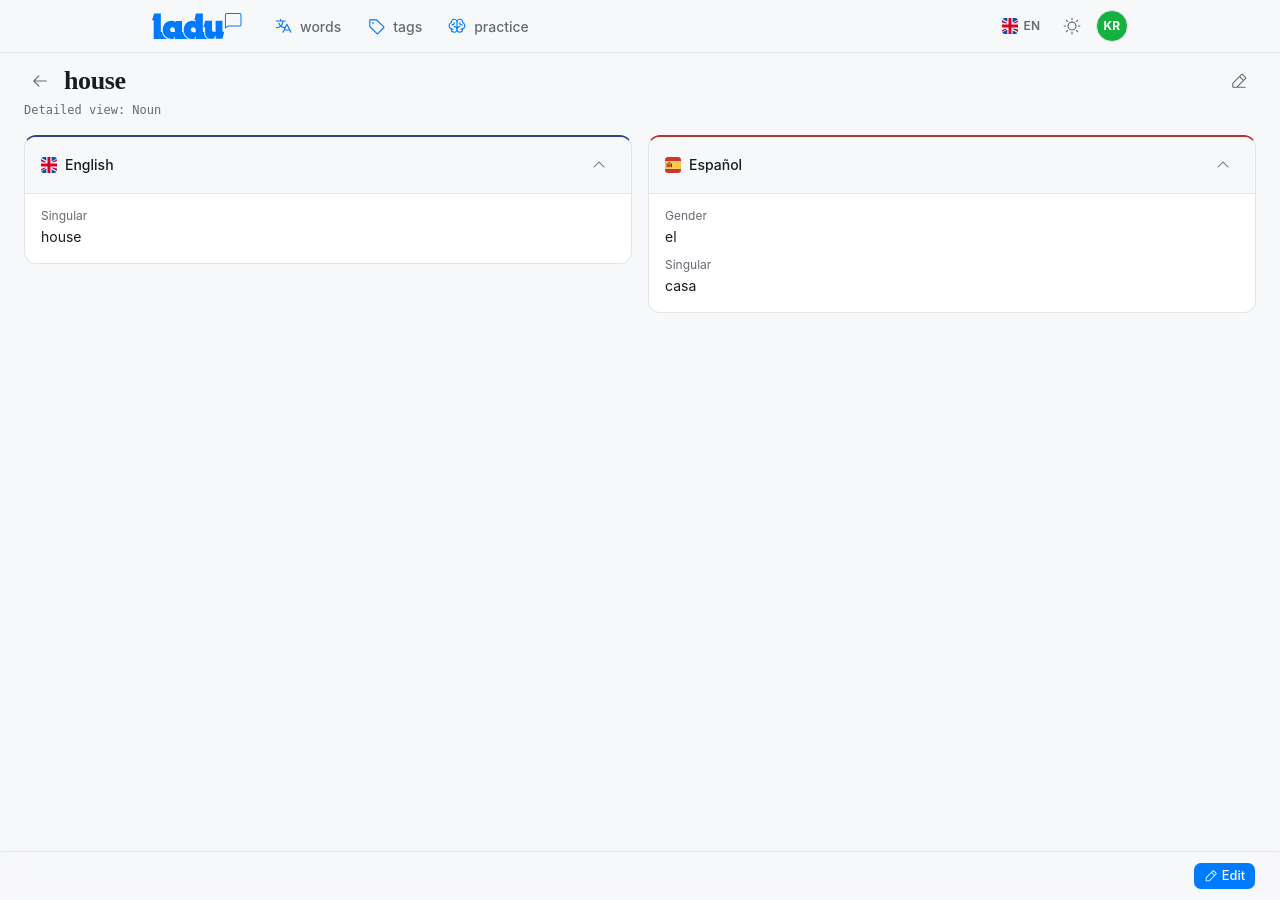
WordPage — view › phone: view mode shows only the icons of what the word has; Edit shows all three
Expected: the element with test id "trigger-clue" is shown, [1230,72,1248,90]
Click the button "Edit": (1224, 876) [1193,862,1256,890]
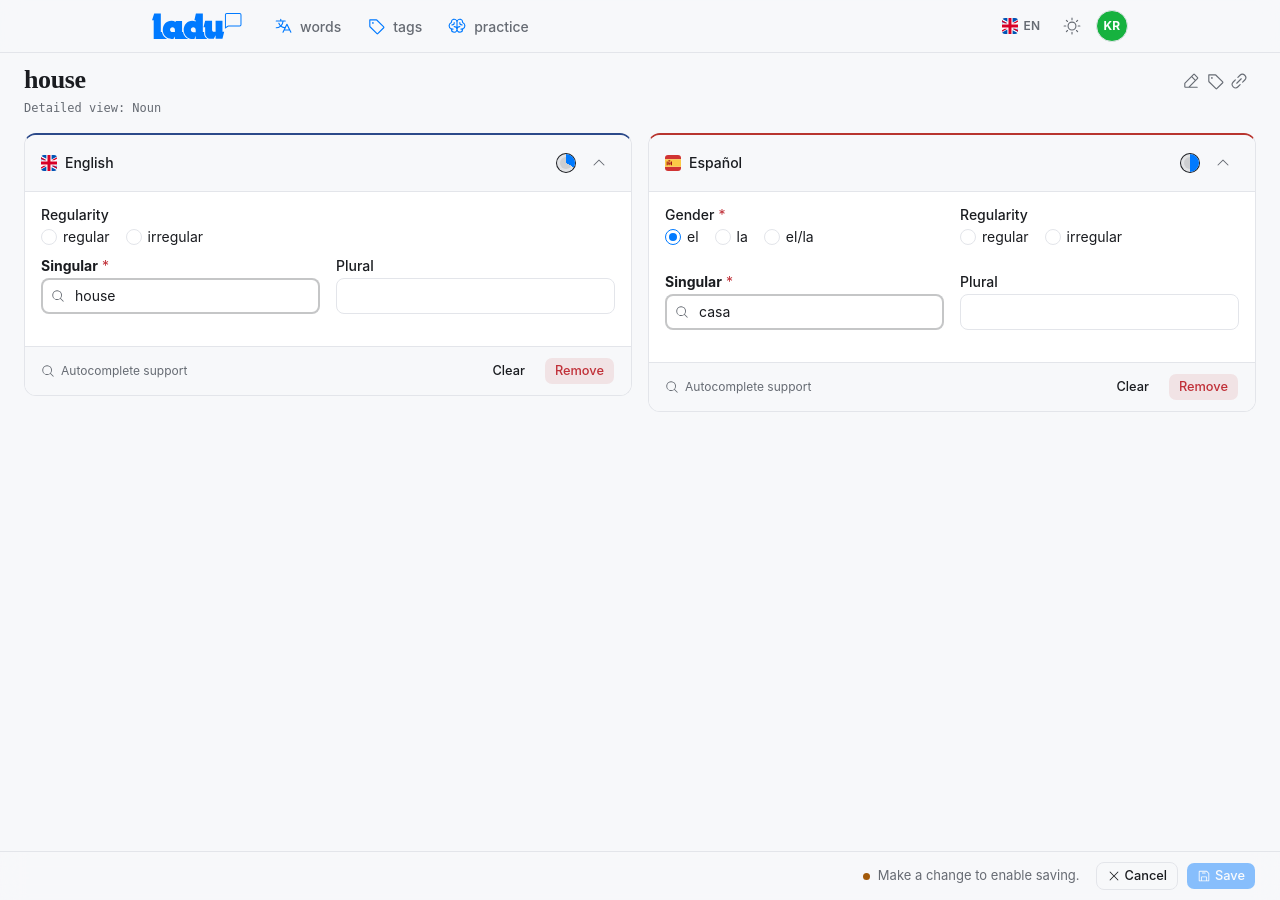
Expected: the element with test id "trigger-clue" is shown, [1182,72,1200,90]
Result: the element with test id "trigger-tags" is shown at [1206,72,1224,90]
Result: the element with test id "trigger-linked-words" is shown at [1230,72,1248,90]
